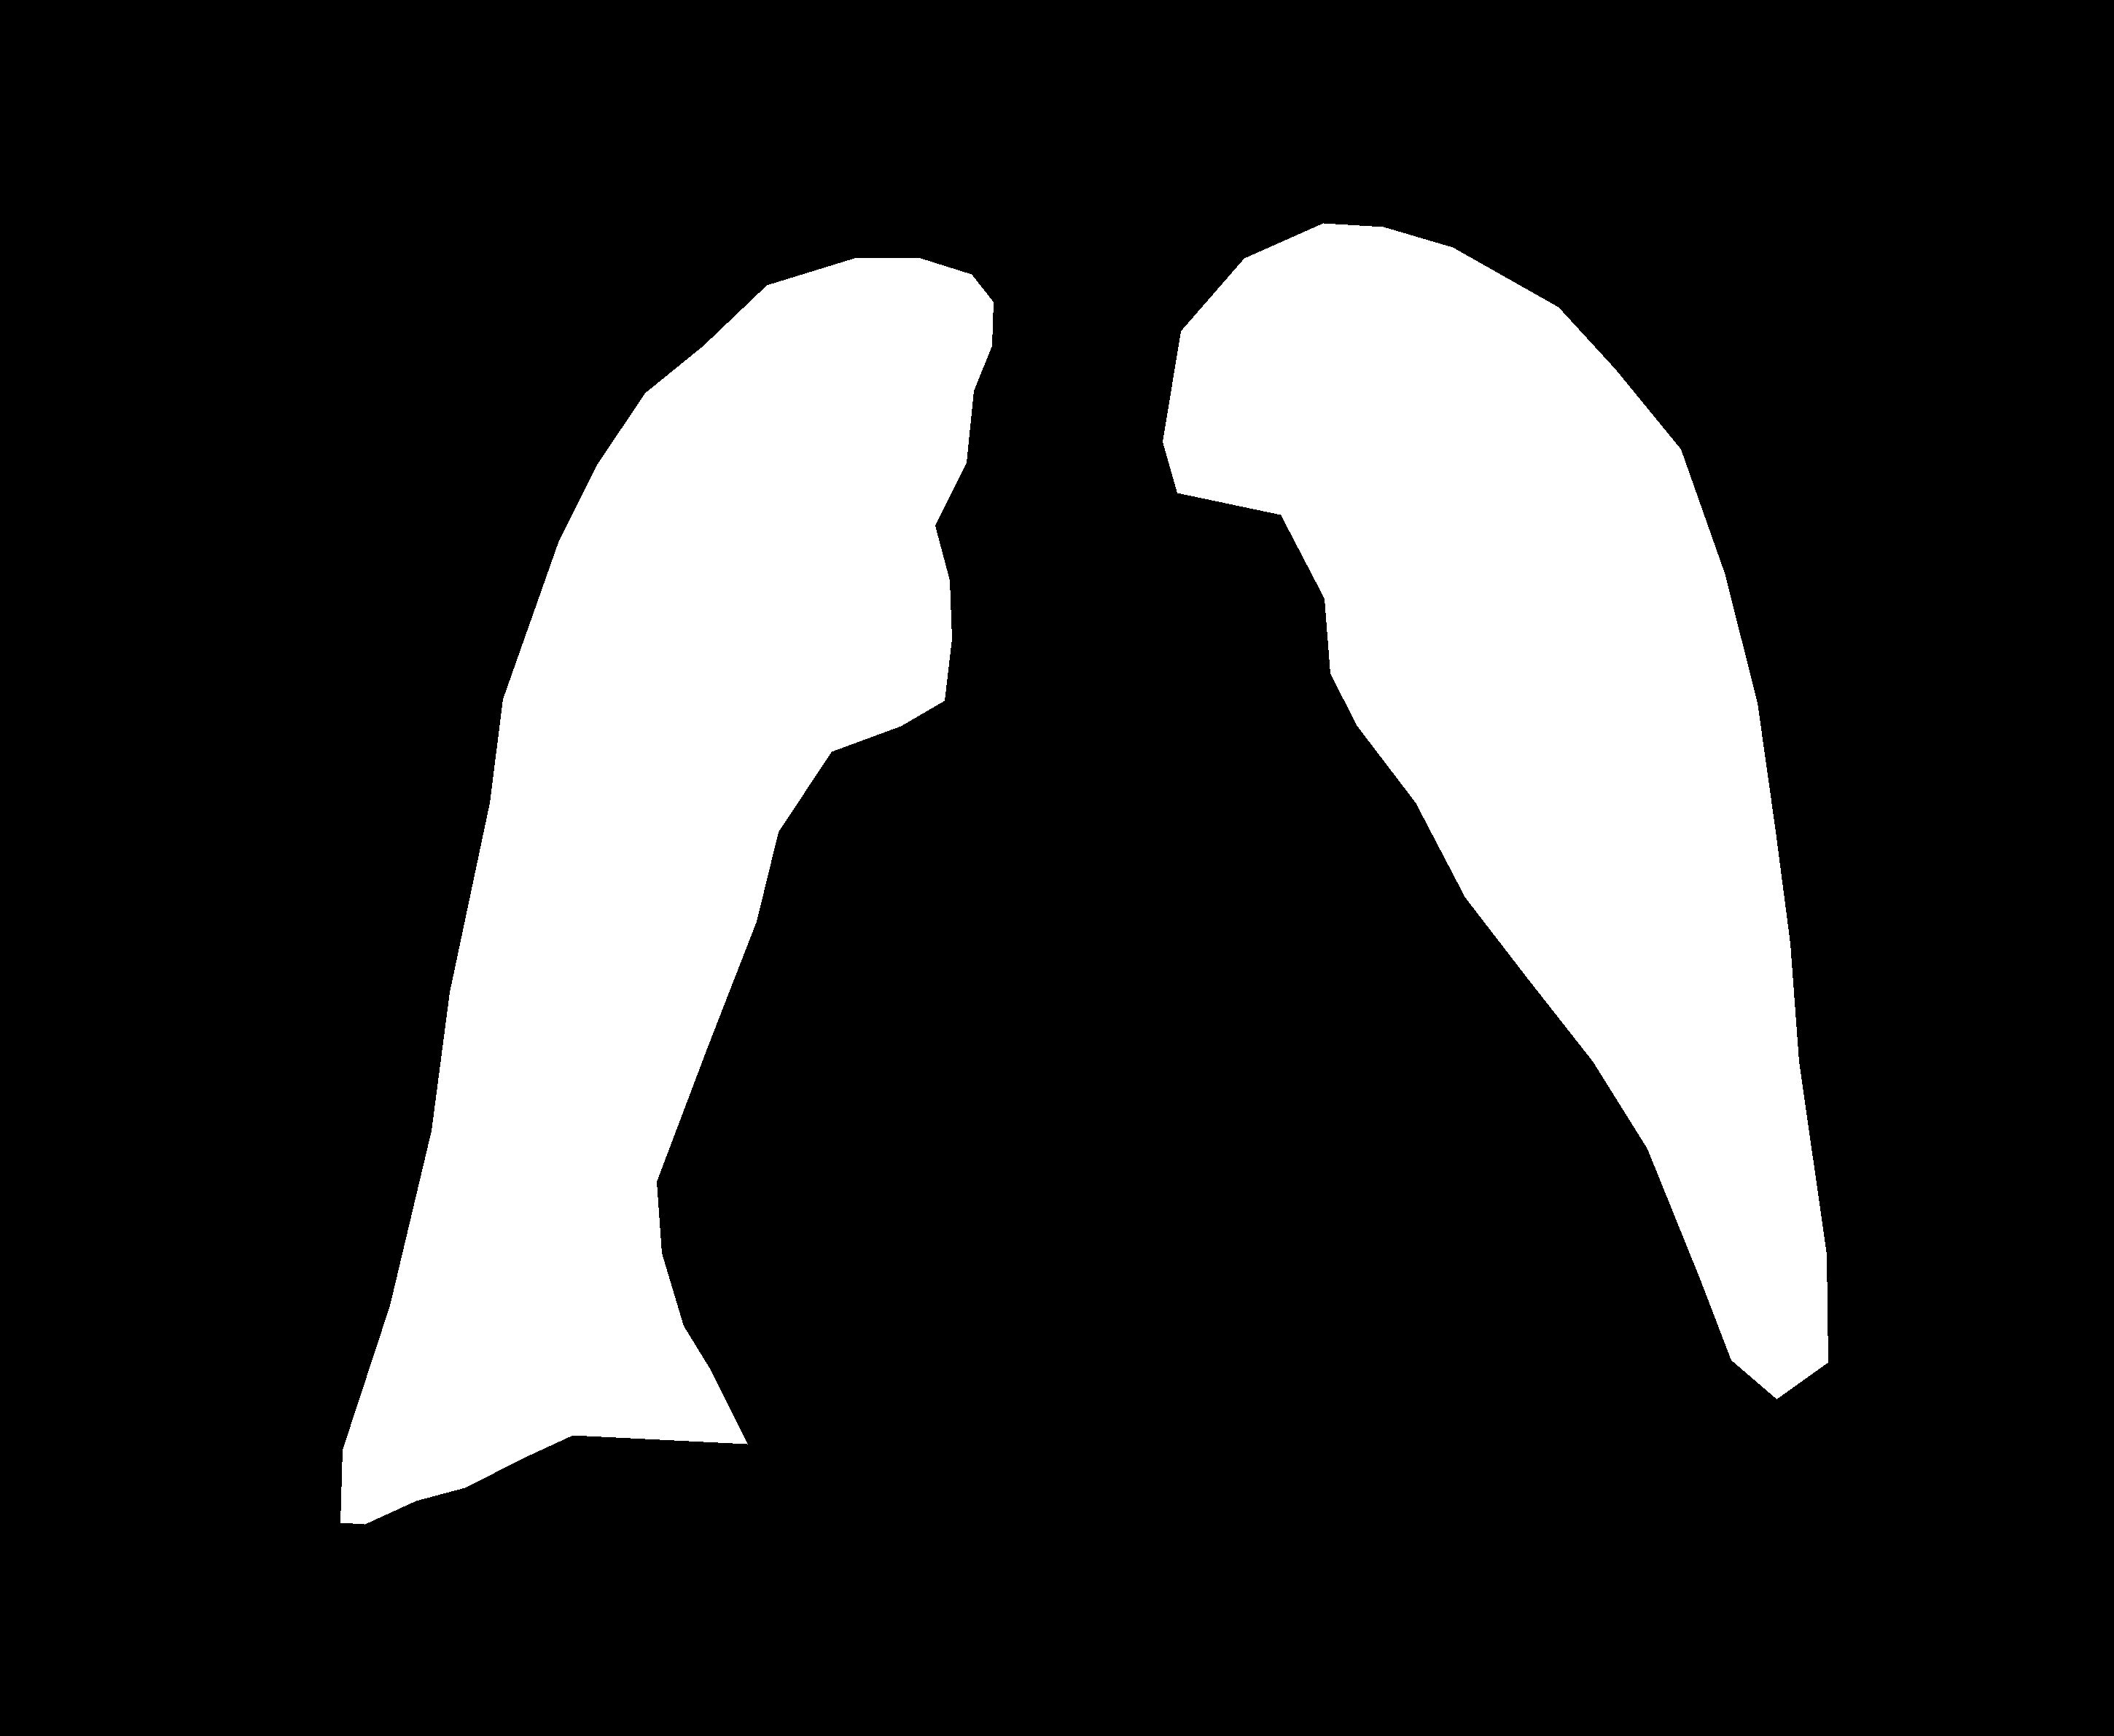heart: (653, 688, 1735, 1480)
left_lung: (341, 258, 992, 1524)
right_lung: (1162, 223, 1828, 1399)
